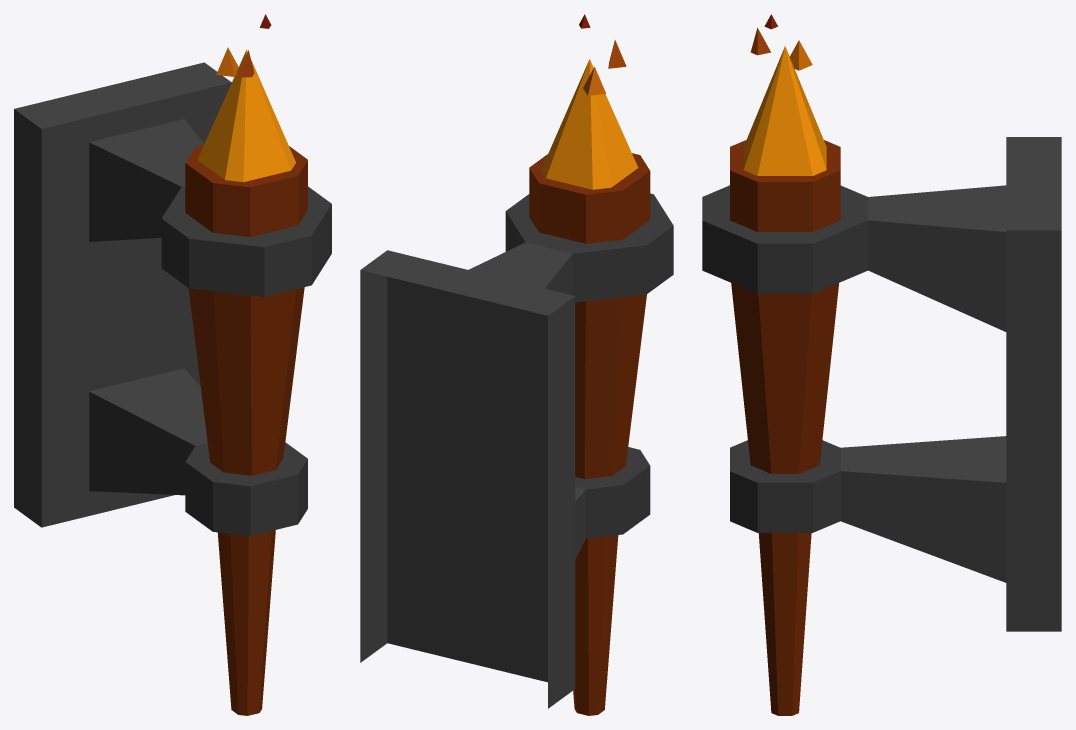
File: torcha2.obj
3 renders of one model, left to right at view 1: azimuth 30°, elevation 25°; view 2: azimuth 150°, elevation 25°; view 3: azimuth 270°, elevation 25°, orthographic. The views are drawn at different scales.
Visible parts, largest first — view 1: torcha2_back; view 2: torcha2_back; view 3: torcha2_back.
Part boxes in pixels (x1,y1,x2,y2): torcha2_back: (14,14,331,715); torcha2_back: (360,14,673,715); torcha2_back: (702,14,1061,715).
Bounding box in the file's own units: 0.32 × 1.12 × 0.52.
